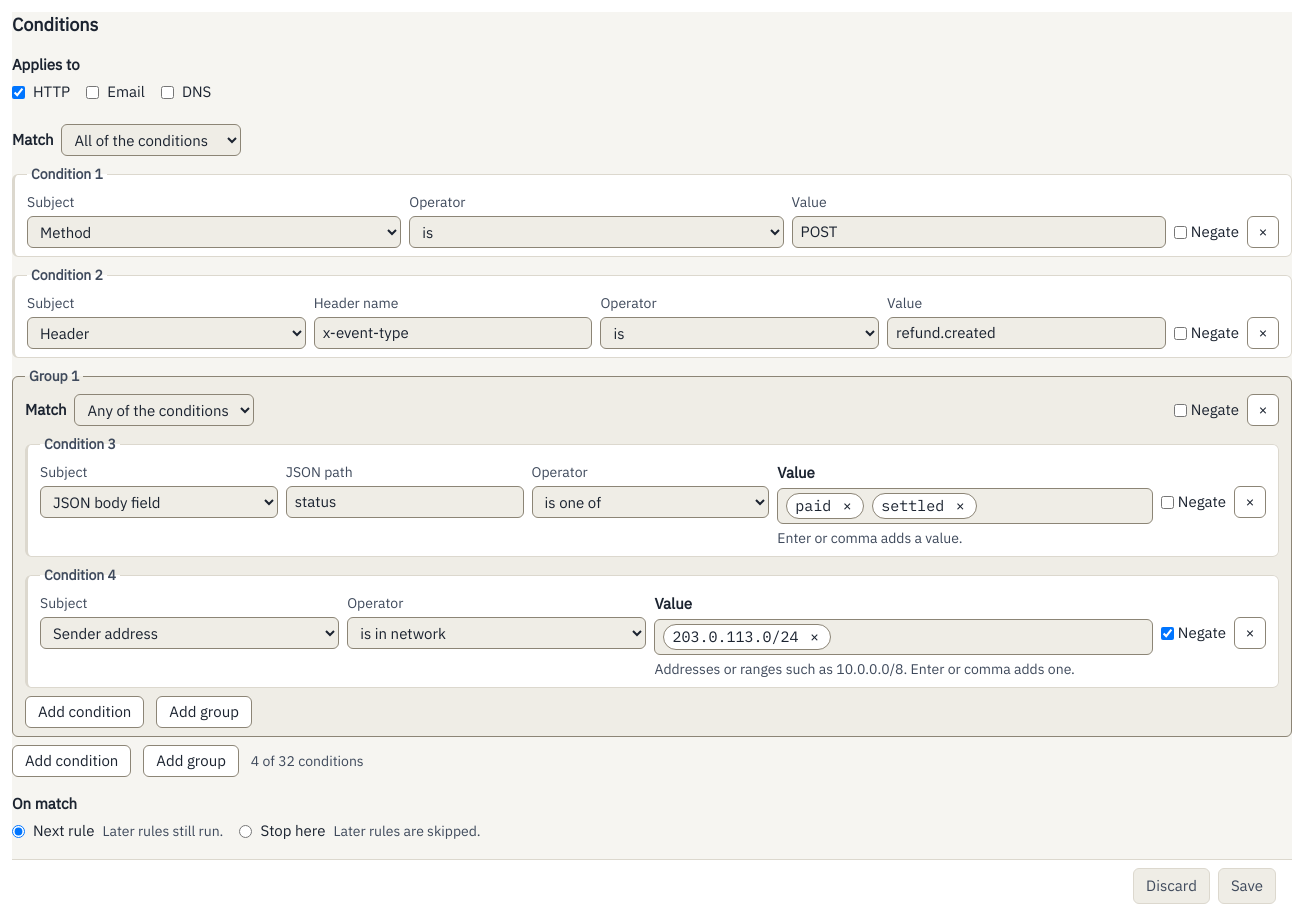
Test case: RuleConditionsEditor › shows the conflict banner when the rule changes elsewhere while edited, and Reload takes the new version
The image size is (1292, 912).
Replace the text in the 1st field labelled "Value" with "PUT" at (979,232), box [792, 216, 1166, 248]
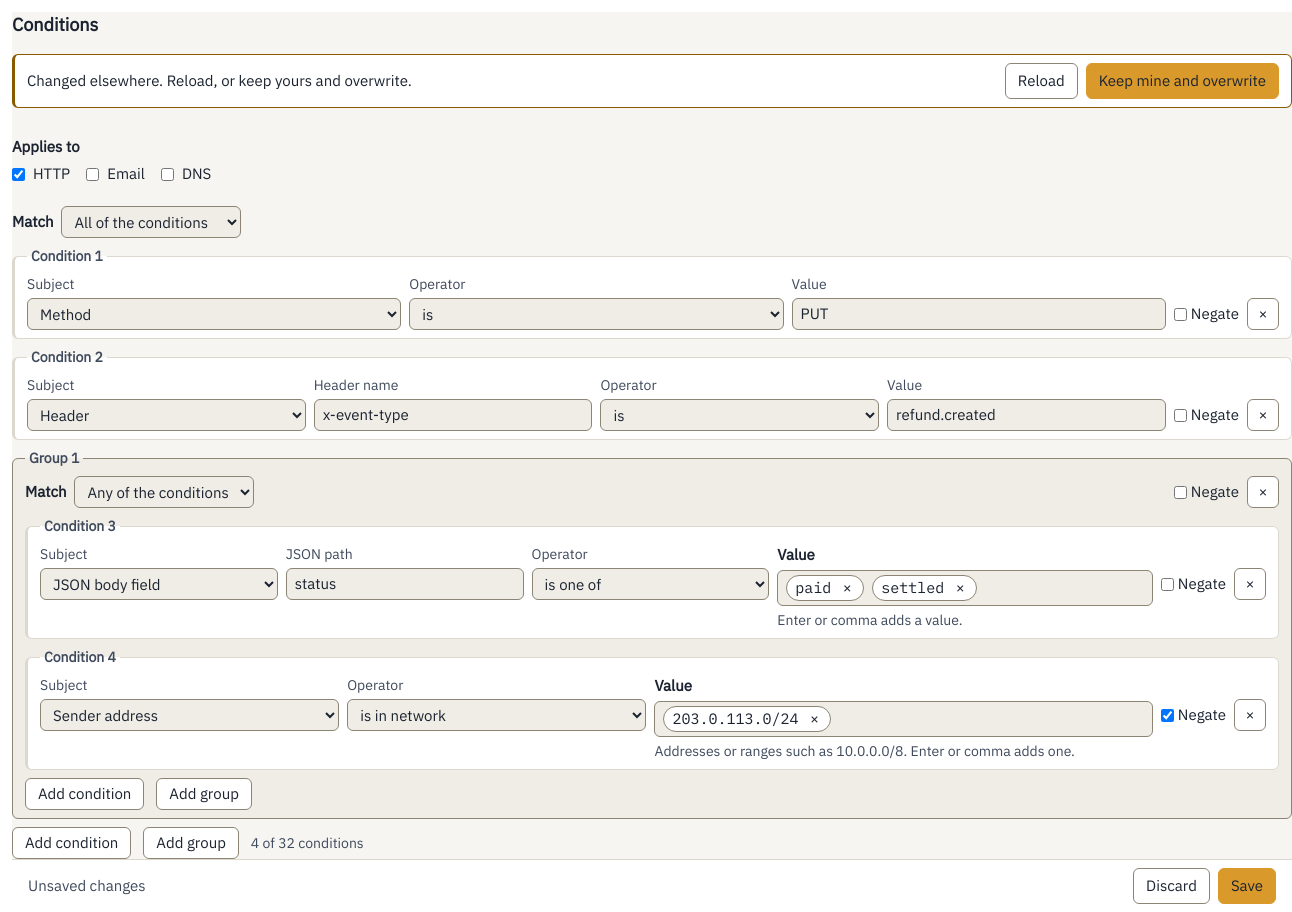
Check: the message shows "Changed elsewhere", box [27, 71, 412, 90]
Click the button "Reload".
click(1041, 81)  # box [1005, 63, 1078, 99]
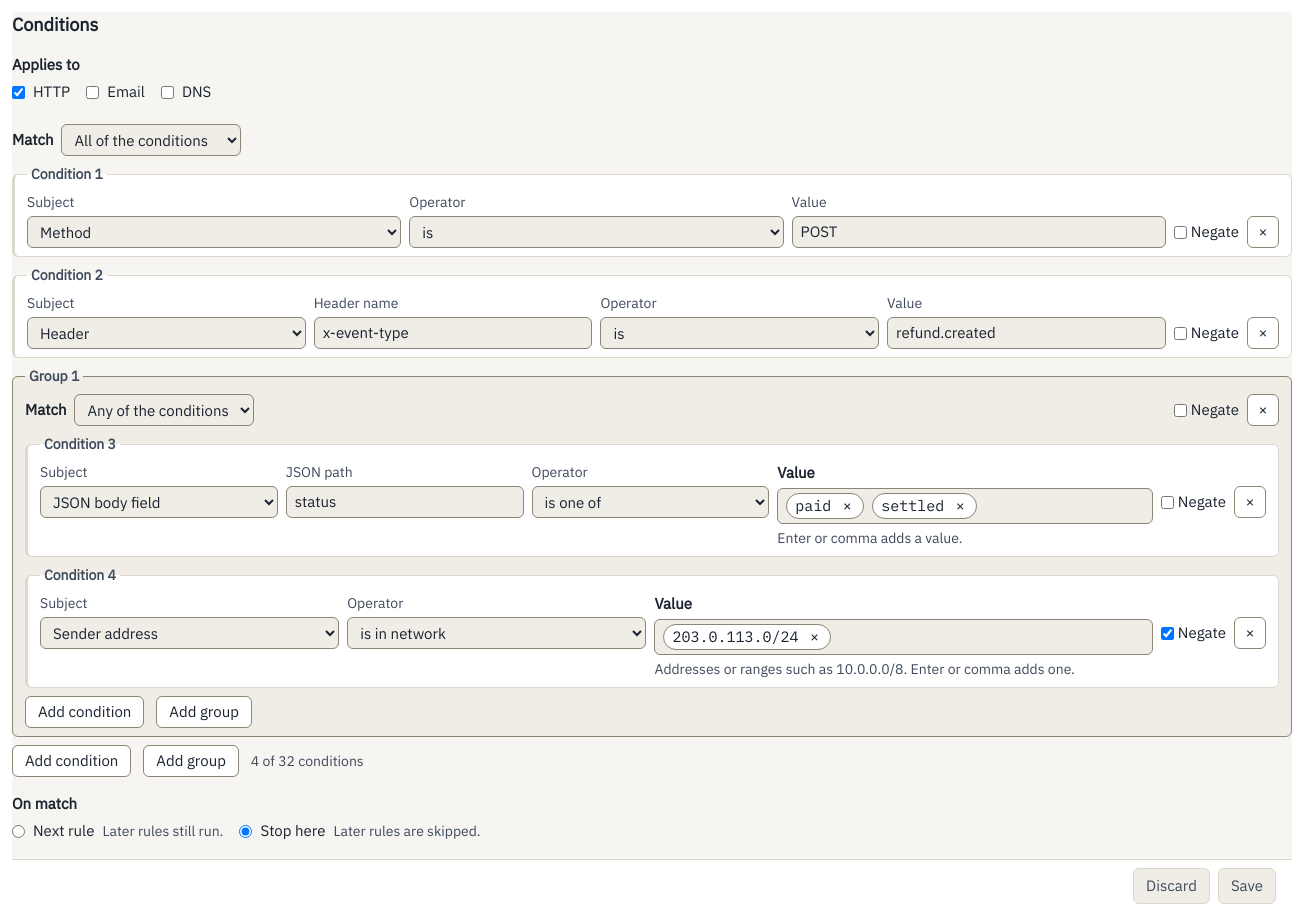
Check: the text "Changed elsewhere" is gone
Check: the radio button labelled "Stop here Later rules are skipped." is checked, box [239, 824, 252, 838]
